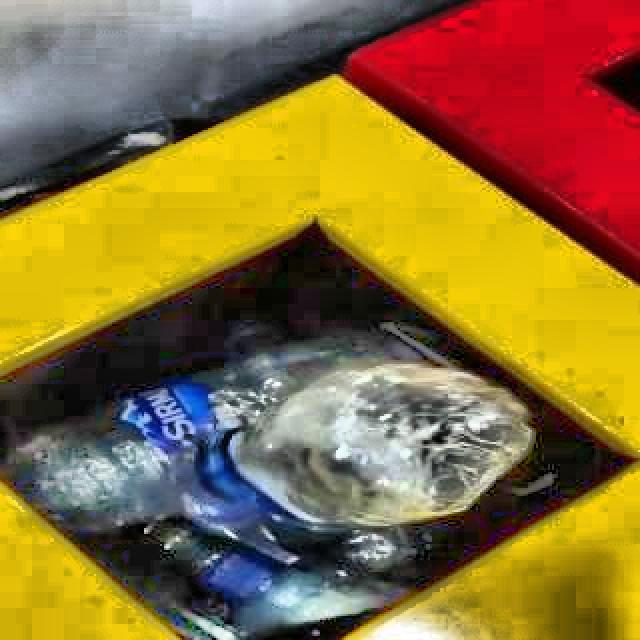plastic: (3, 336, 536, 636)
